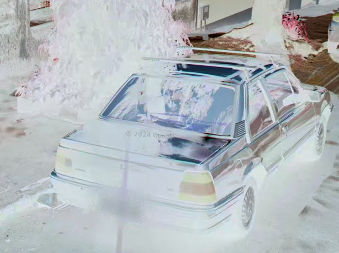car: (50, 57, 334, 233)
